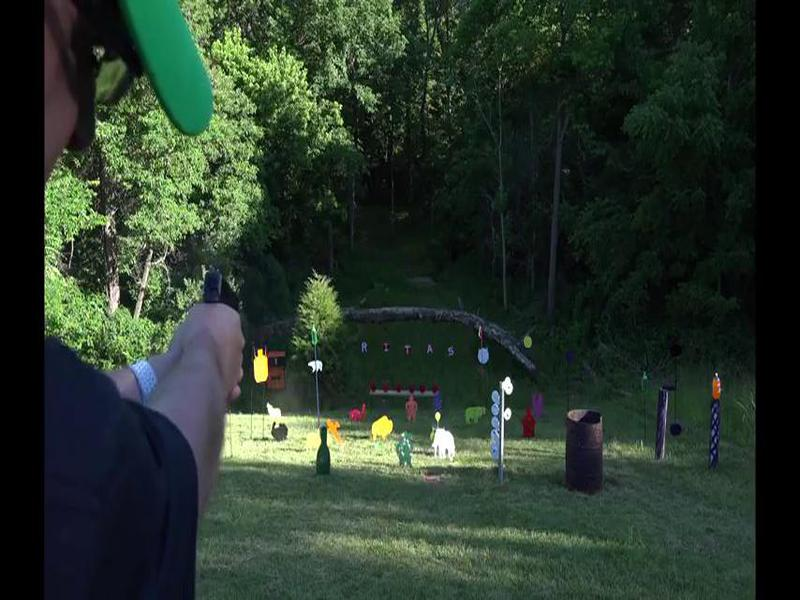Pistola: (187, 265, 256, 332)
